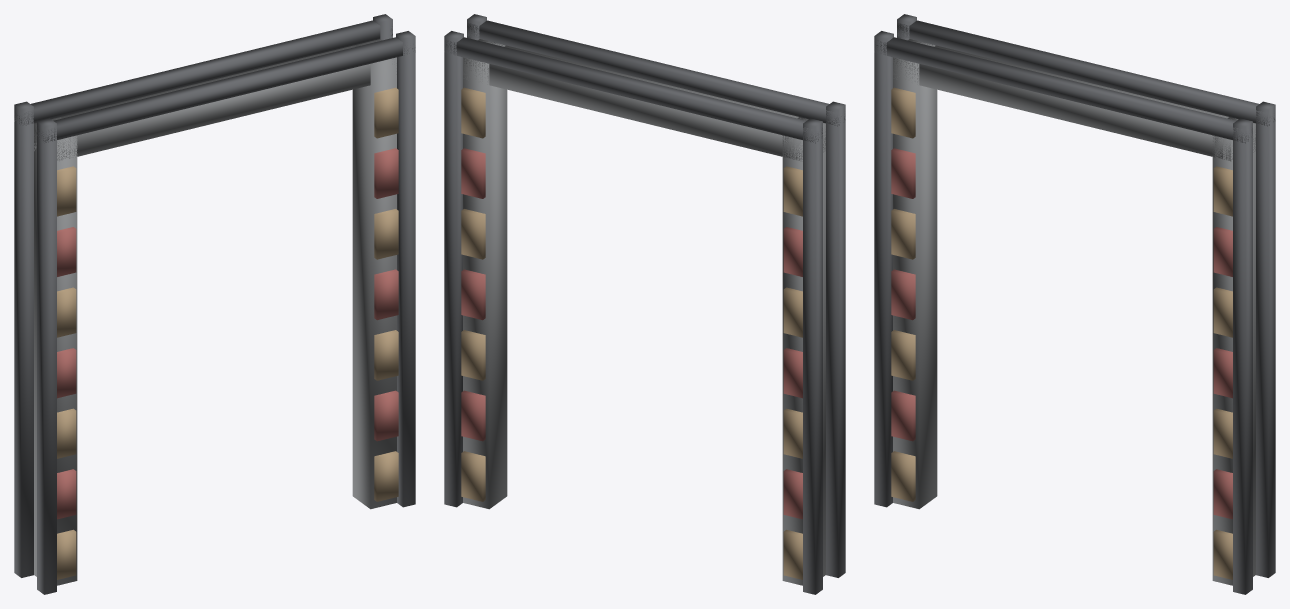
The model's file is doorway_brick_return_w152_h210_d16.glb.
The picture shows the model from 3 angles, left to right: view 1: azimuth 30°, elevation 25°; view 2: azimuth 150°, elevation 25°; view 3: azimuth 330°, elevation 25°; orthographic projection.
Parts seen in each view (by area): view 1: world; view 2: world; view 3: world.
Boxes of the visible parts, x1,y1,x2,y2 form: world: (14,14,415,594); world: (444,14,845,594); world: (874,14,1275,594).
Bounding box in the file's own units: 1.92 × 2.32 × 0.2716.
